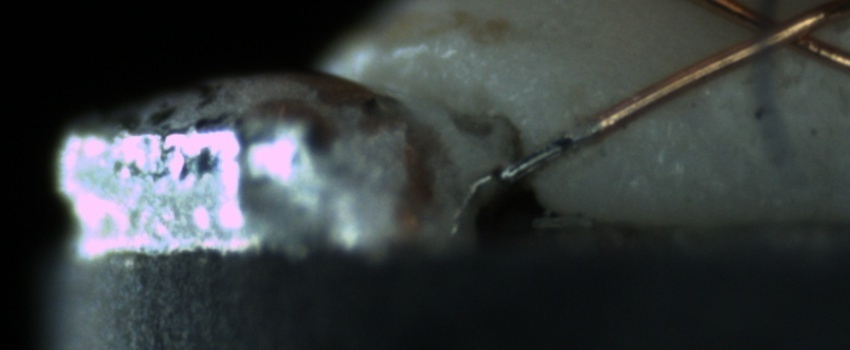CL: (720, 2, 843, 64)
TS: (497, 119, 603, 185)
TTCW: (497, 95, 635, 185)
